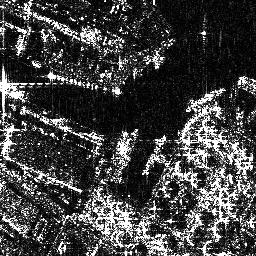ship: (185, 87, 227, 112)
